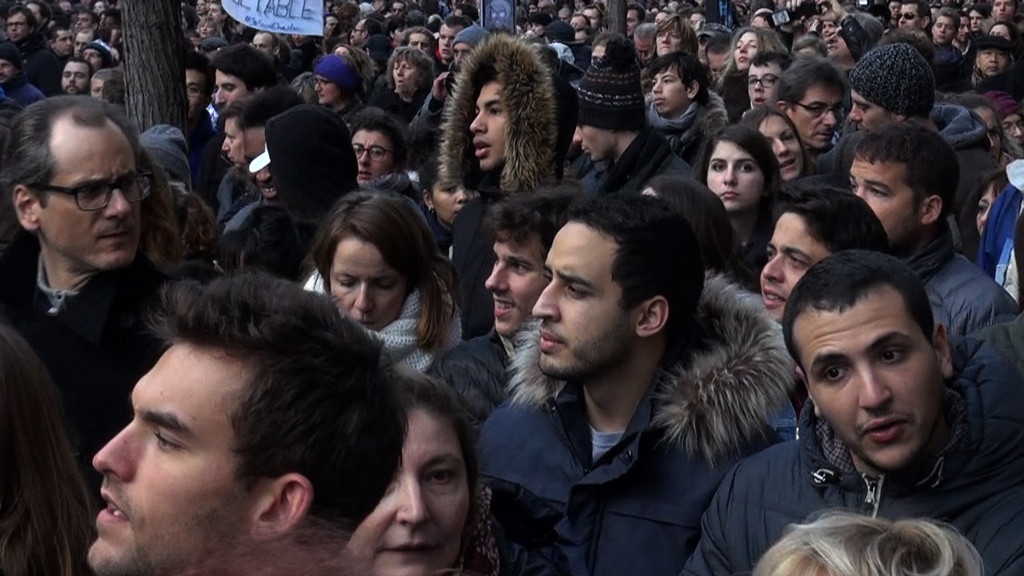without_mask: (81, 320, 252, 571), (346, 413, 505, 571), (793, 296, 930, 459), (25, 118, 151, 274), (540, 230, 620, 387), (322, 236, 400, 333), (455, 78, 521, 175), (475, 215, 527, 336), (759, 225, 807, 319), (704, 144, 757, 209), (424, 166, 474, 228), (351, 118, 391, 189), (798, 91, 840, 148), (244, 130, 276, 197), (572, 117, 613, 169), (652, 69, 686, 122), (206, 69, 241, 114), (213, 124, 243, 169), (750, 65, 777, 114), (729, 33, 762, 70), (387, 56, 419, 92), (56, 63, 87, 98), (655, 18, 679, 59), (315, 69, 340, 107)
